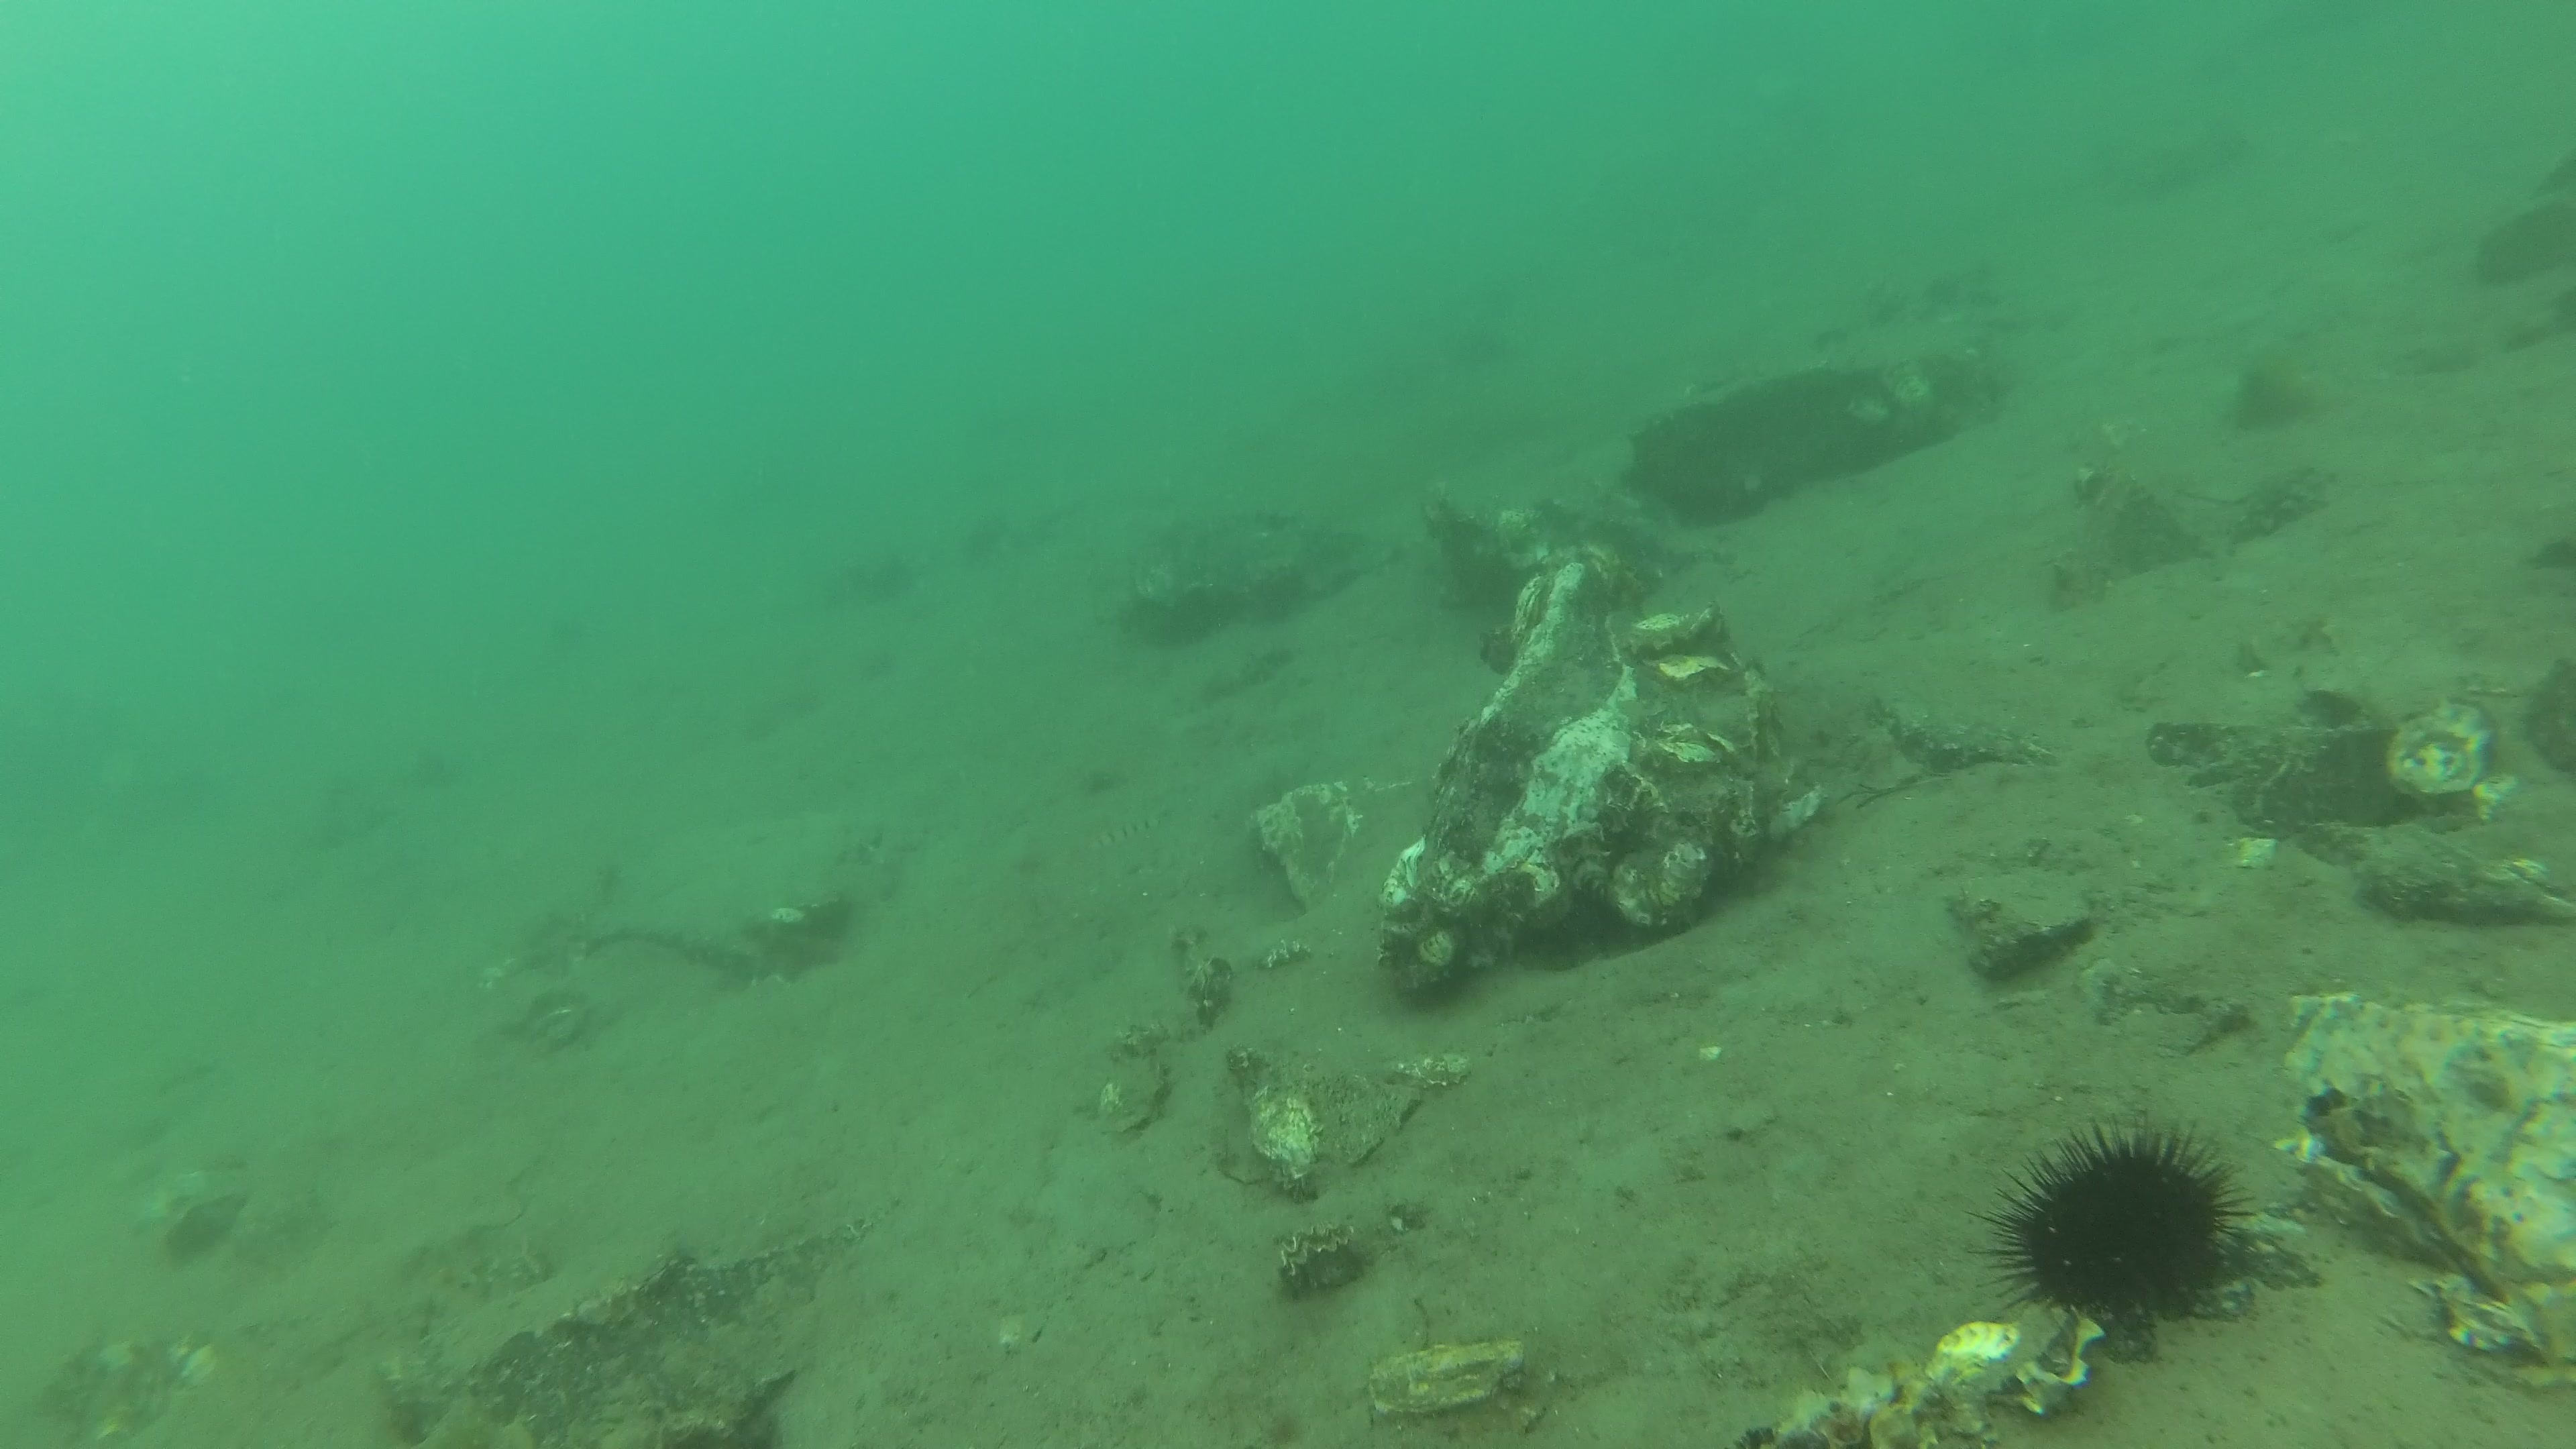echinus: (1966, 1108, 2265, 1320)
